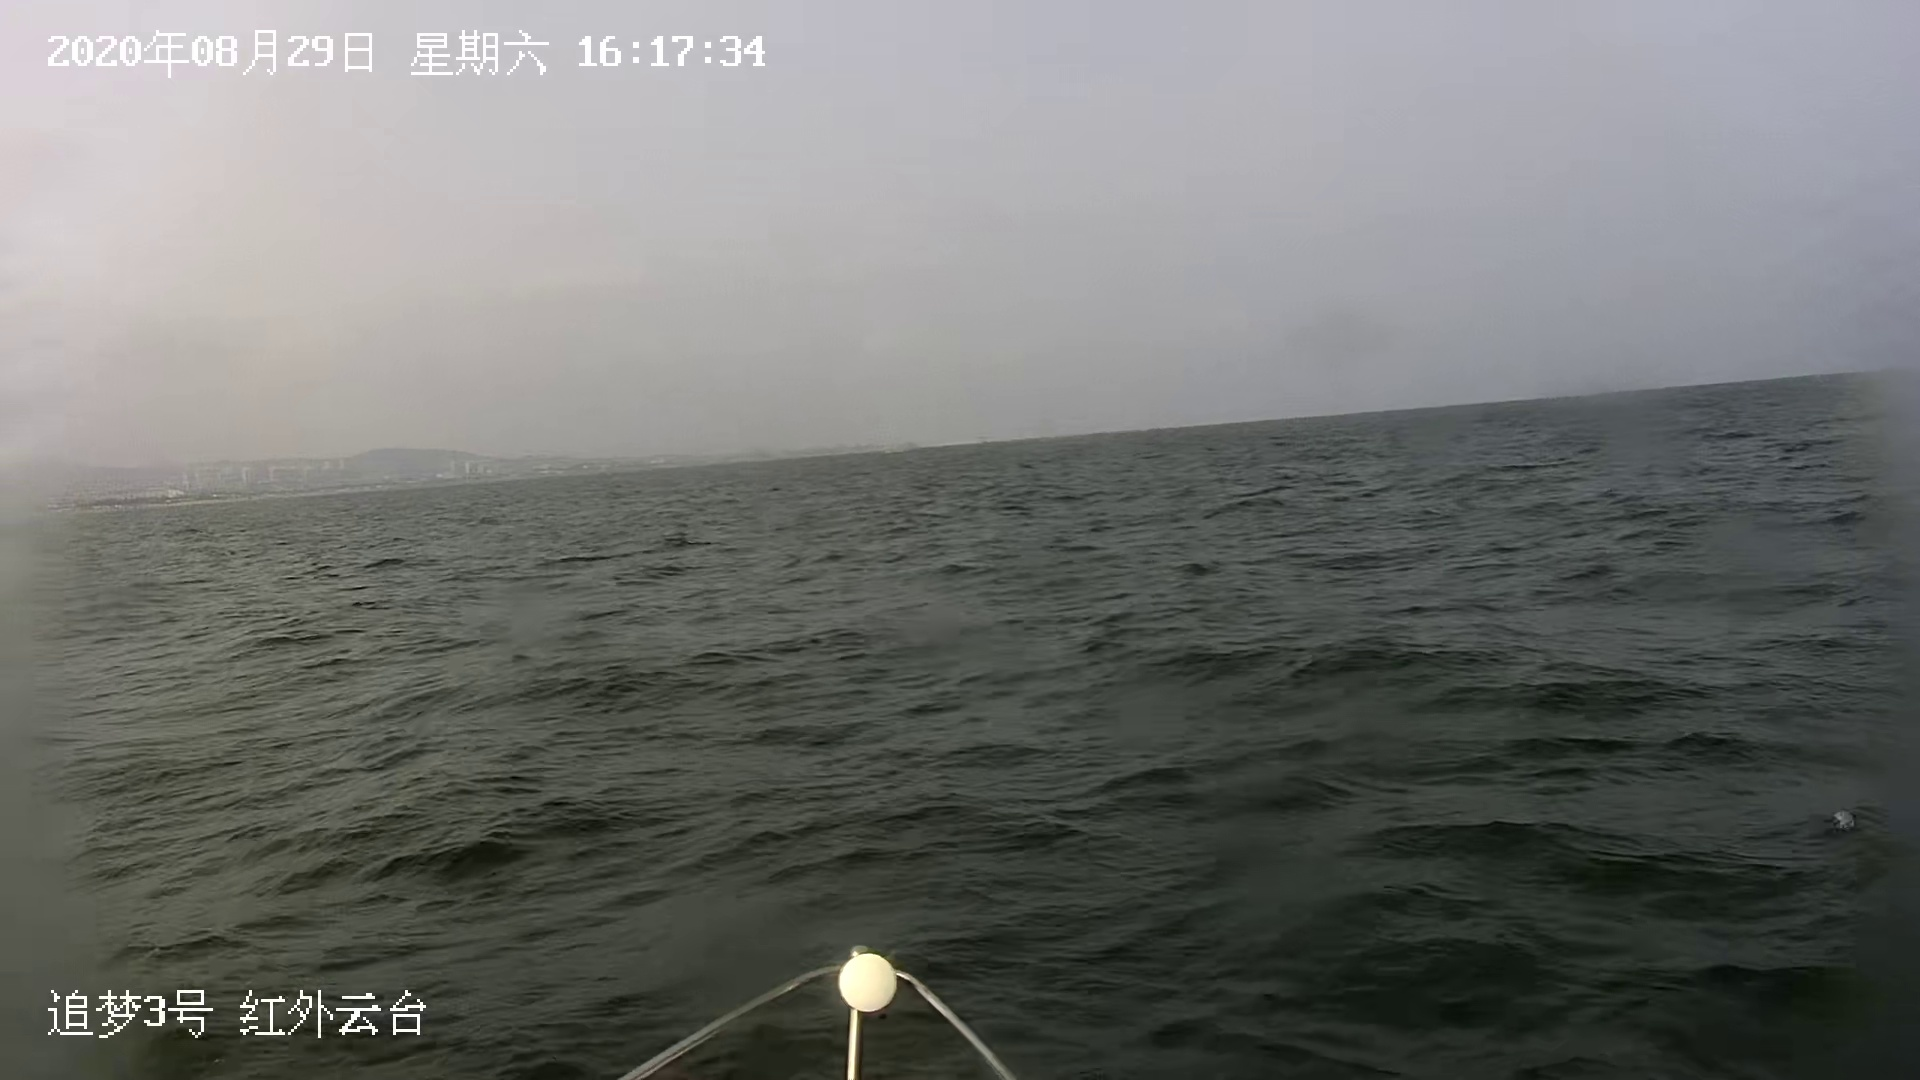coast: (18, 439, 845, 522)
